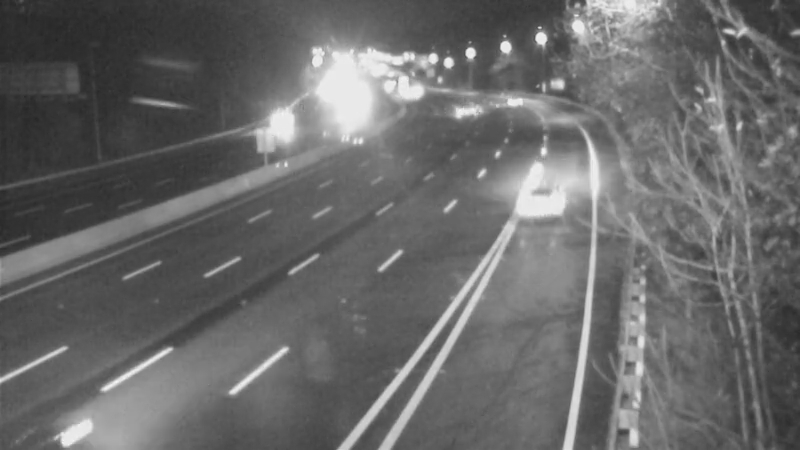vehicle: (500, 171, 580, 251), (481, 76, 531, 126), (433, 92, 483, 142), (262, 97, 312, 147)
